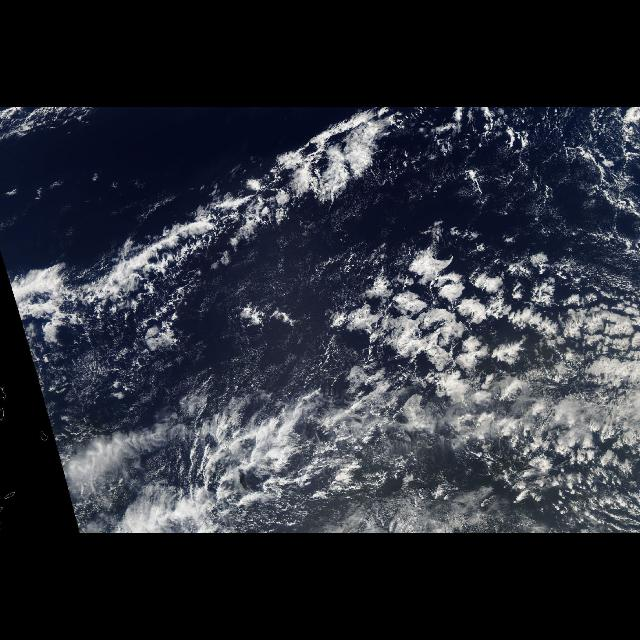Fish: (2, 114, 414, 346)
Flower: (322, 243, 534, 373)
